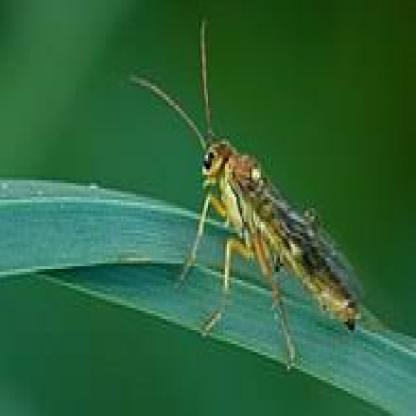sawfly: (141, 19, 365, 370)
